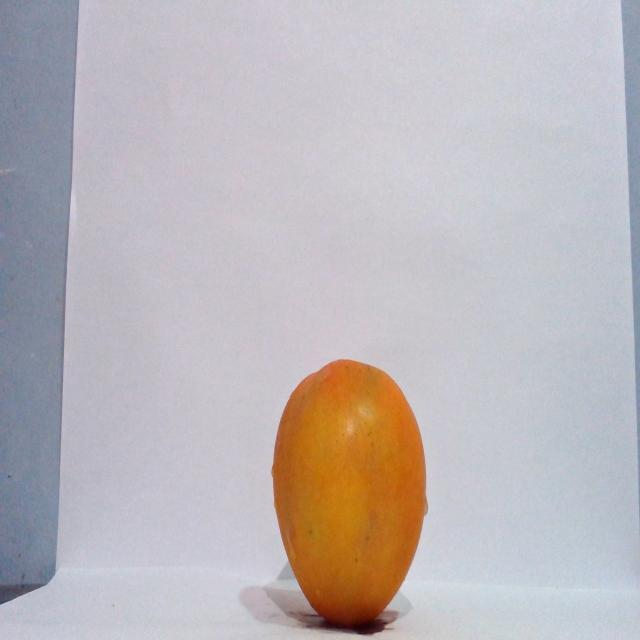Red: (270, 357, 428, 628)
